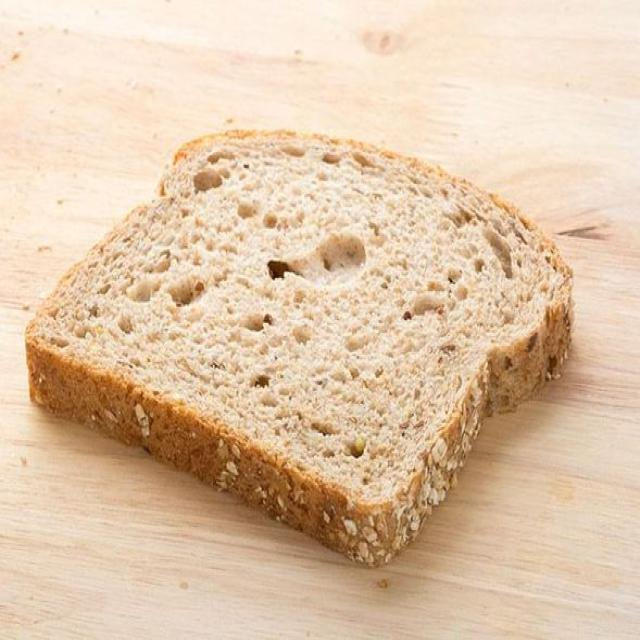Bread: (26, 132, 572, 564)
